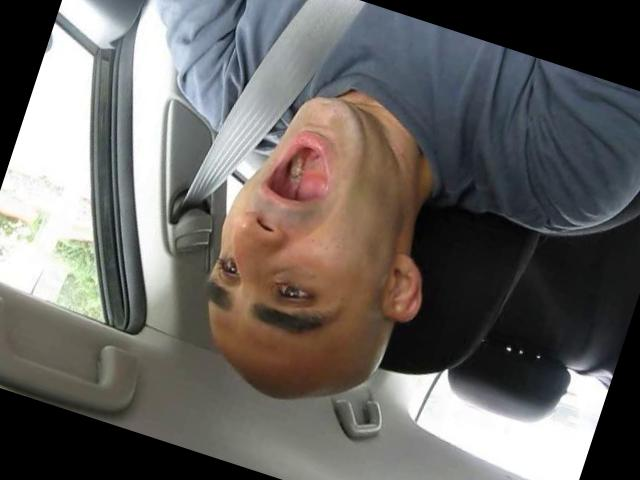eye_open: (264, 272, 320, 312), (213, 255, 247, 286)
face: (184, 76, 410, 373)
mouth_open: (250, 118, 345, 222)
